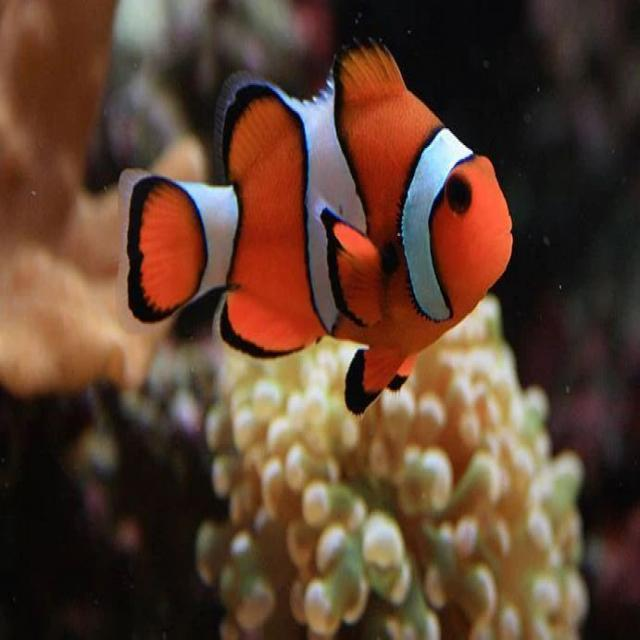ClownFish: (126, 41, 518, 417)
